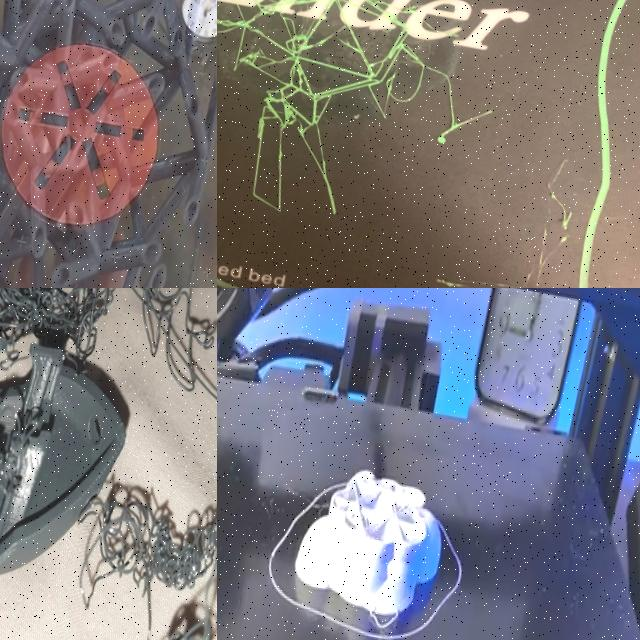spaghetti: (217, 0, 532, 245), (75, 369, 217, 640), (0, 288, 217, 386)
